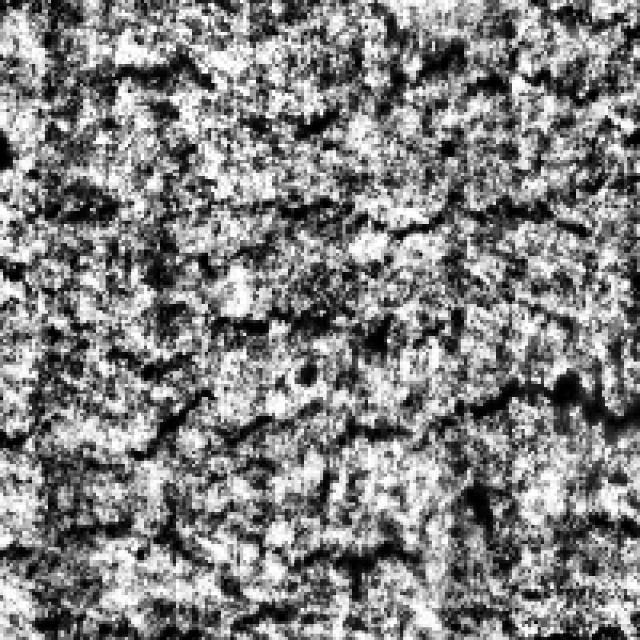Pitted_Surface: (83, 96, 621, 438), (0, 380, 493, 602), (272, 29, 627, 240)
